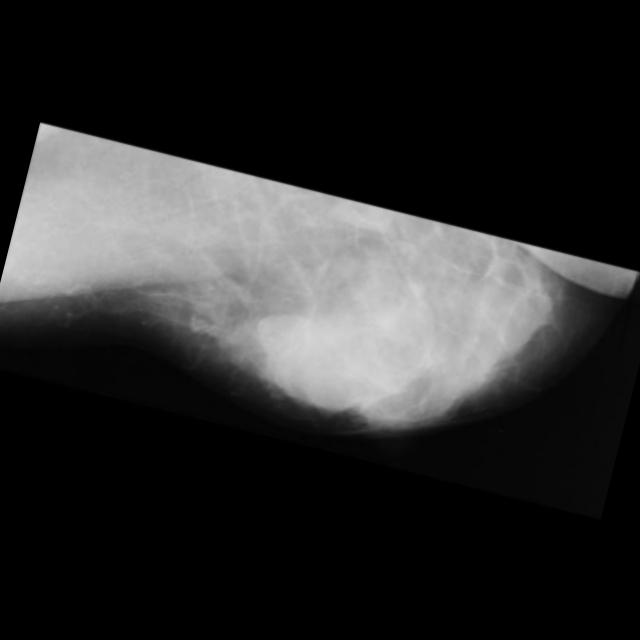CALC: (182, 302, 239, 360)
